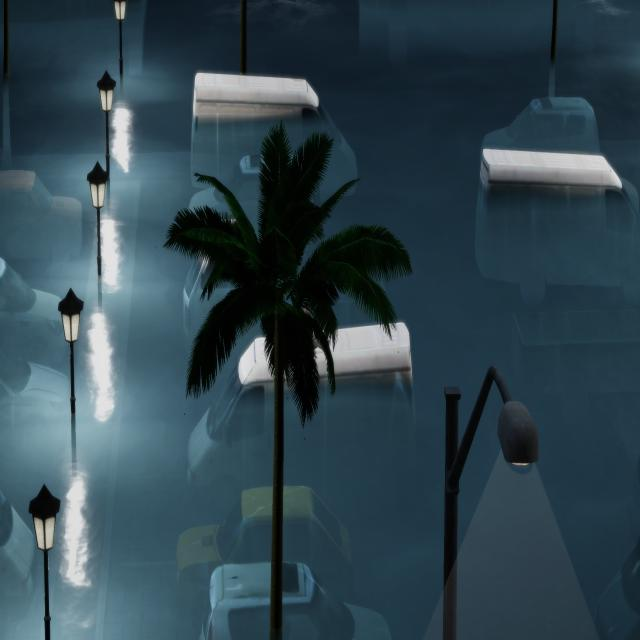Human: (300, 314, 331, 356)
